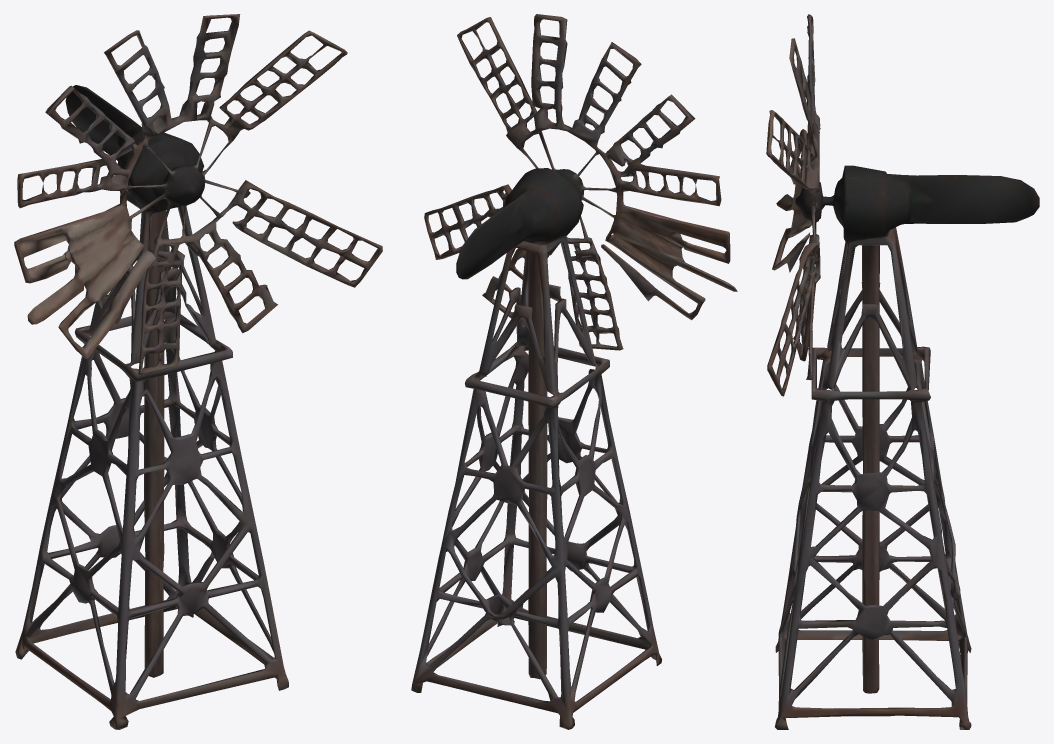
The model's file is windmill.glb.
3 views of the same model, side by side, from view 1: azimuth 30°, elevation 25°; view 2: azimuth 150°, elevation 25°; view 3: azimuth 270°, elevation 25° (orthographic). The views are drawn at different scales.
Size of the model in its own units: 0.5349 by 1 by 0.3765.
Materials: 1 (1 with a texture image).
